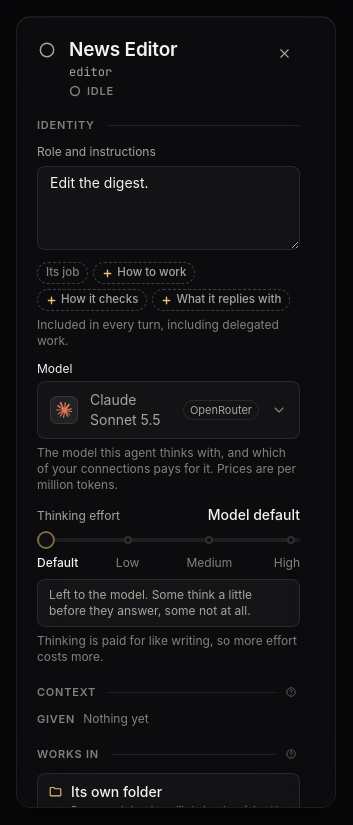
Scenario: Inspector works in › says an editing agent beside its team file gets its own folder
The width and height of the screenshot is (353, 825).
Expected: the text "Its own folder" is shown, top-left (71, 783), bottom-right (162, 800)
Click the button named "About Works in" at [291, 754], box top-left (282, 745), bottom-right (300, 763)
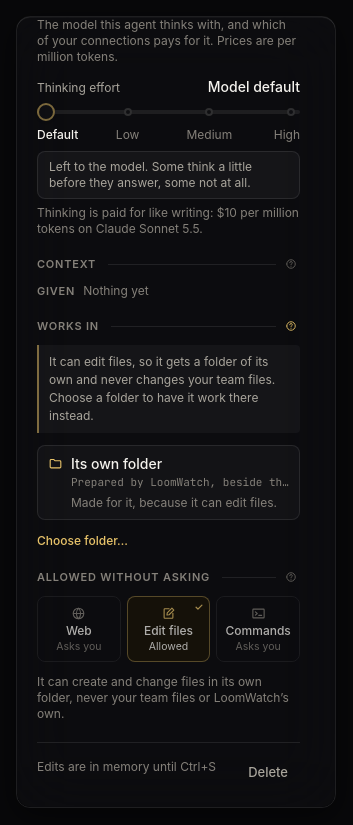
Now the text "never changes your team files" is shown, box top-left (49, 354), bottom-right (275, 423)
Now the button "Choose folder…" is shown, box top-left (37, 532), bottom-right (128, 550)
